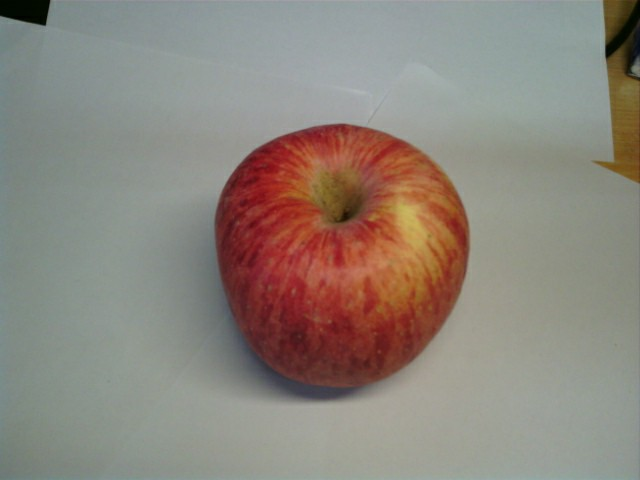normal_apple: (207, 124, 473, 393)
